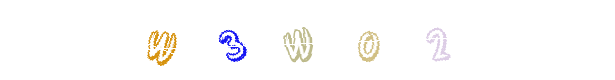2: (308, 0, 388, 80)
3: (193, 0, 273, 80)
O: (268, 0, 348, 80)
W: (122, 0, 202, 80), (261, 0, 341, 80)
